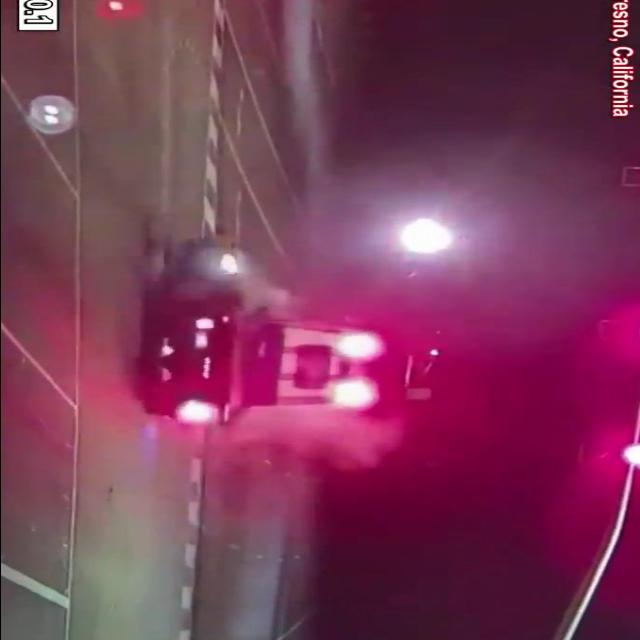accident: (118, 228, 398, 432)
